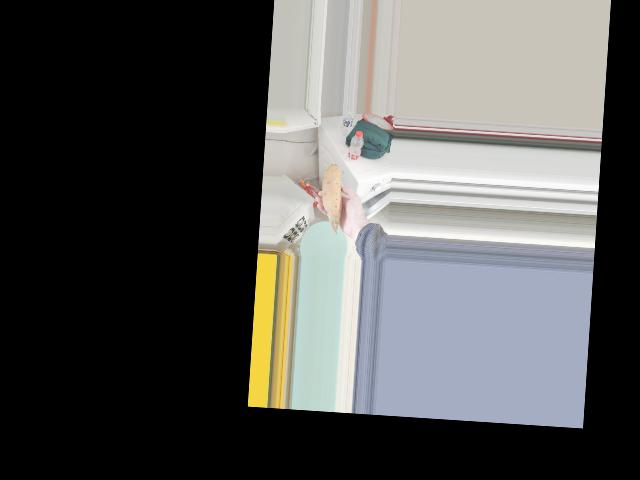sweet_potato: (323, 169, 345, 230)
